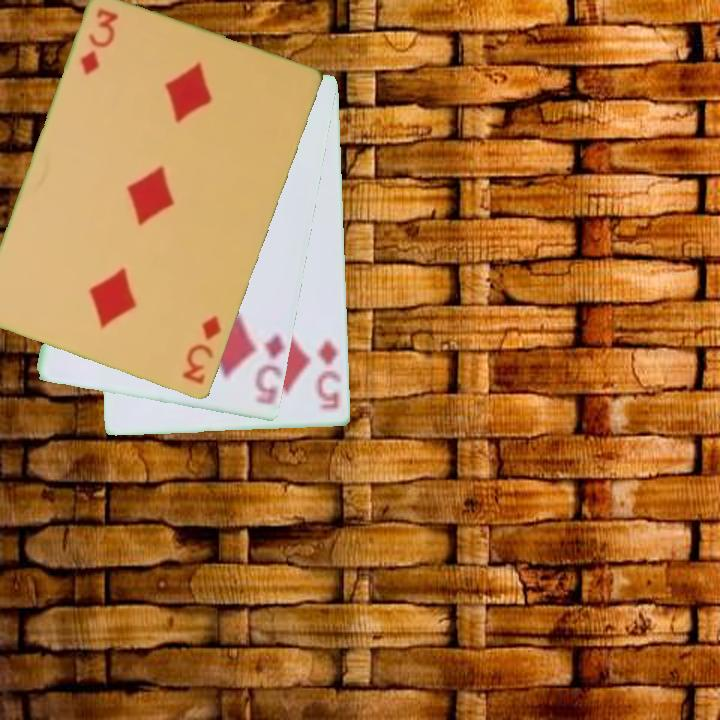3d: (179, 313, 225, 388), (77, 6, 122, 79)
5d: (252, 329, 288, 405), (314, 336, 344, 413)
